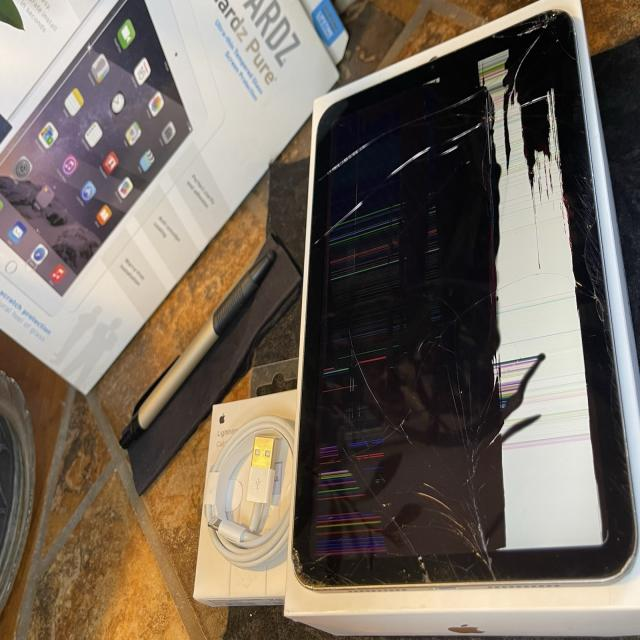Crack: (295, 14, 634, 577)
